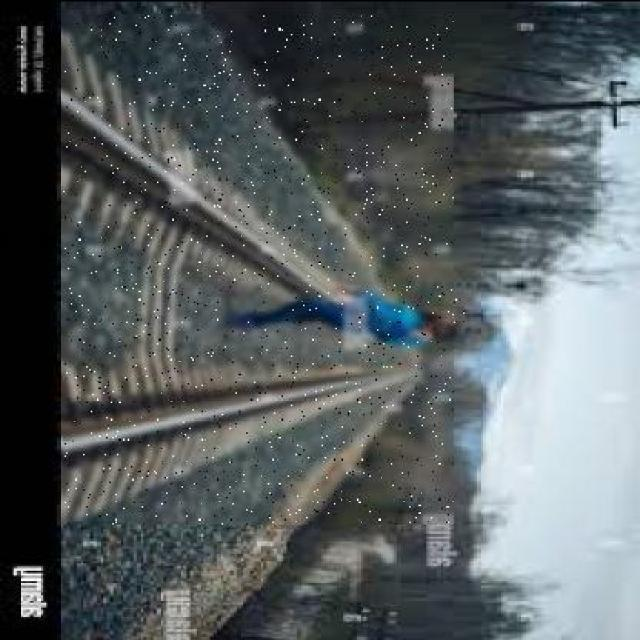danger: (212, 290, 465, 342)
rail: (63, 14, 453, 522)
